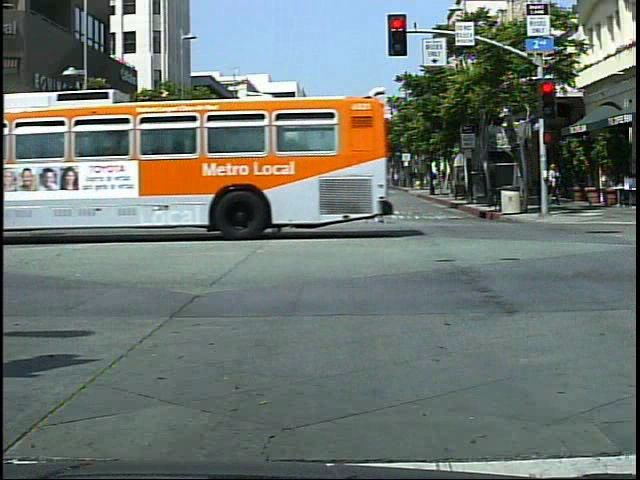person: (266, 165, 297, 229), (161, 168, 190, 235), (363, 166, 392, 230), (547, 160, 568, 208)
